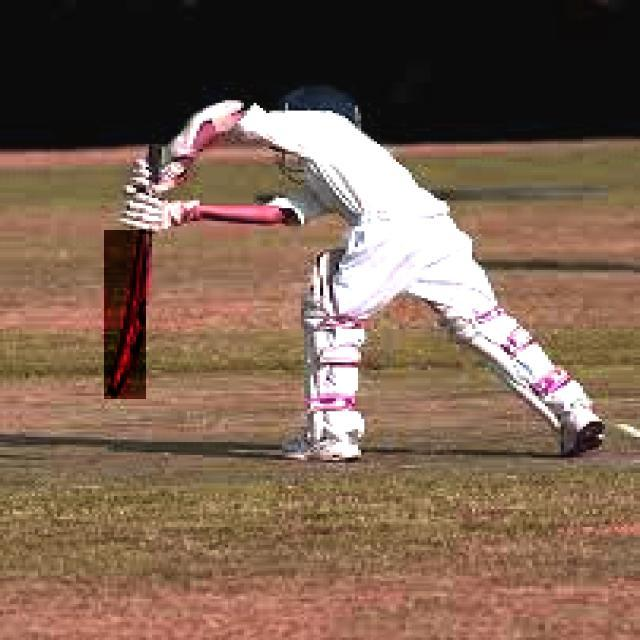bat: (106, 228, 148, 400)
